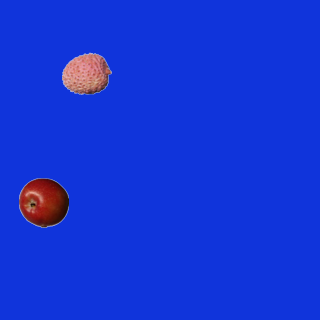Apple Braeburn: (18, 177, 68, 227)
Lychee: (61, 48, 111, 98)
